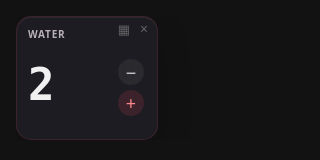
Test: WidgetShelf › keeps both counter actions usable at small size
Click the button named "Increase Water by 1" at (131, 102), box [118,90,144,116]
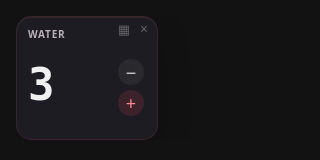
Expected: the element named "Water value" reads "3", [28,58,51,110]
Click the button named "Decrease Water by 1" at (131, 72), box [118,58,144,84]
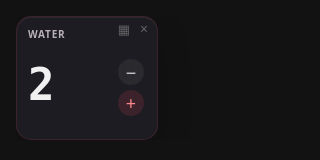
Expected: the element named "Water value" reads "2", [28,58,51,110]
